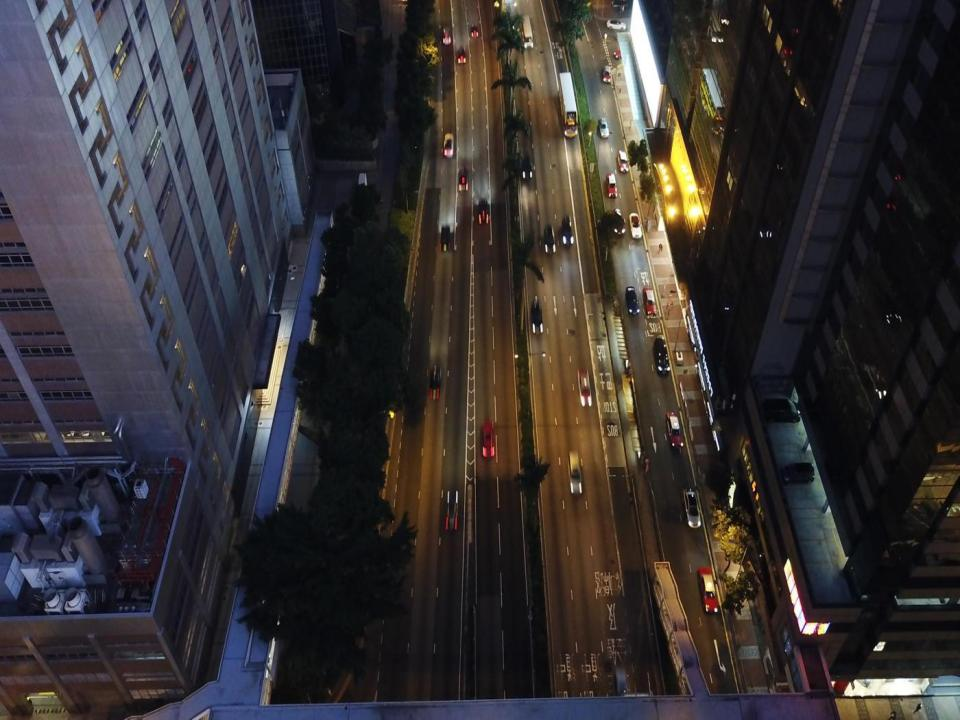bus: (558, 72, 578, 136), (519, 14, 534, 48)
car: (697, 566, 719, 613), (614, 666, 632, 705), (684, 489, 702, 527), (665, 411, 684, 447), (577, 369, 592, 406), (445, 490, 458, 530), (530, 298, 545, 332), (518, 152, 534, 180), (609, 208, 625, 236), (482, 420, 494, 457), (643, 287, 657, 316), (430, 364, 441, 400), (625, 286, 639, 313), (629, 213, 642, 237), (617, 150, 630, 173), (478, 197, 489, 224), (545, 226, 556, 253), (458, 166, 469, 192), (443, 133, 453, 158), (440, 226, 450, 251), (606, 18, 625, 30), (613, 47, 630, 60), (598, 119, 609, 138), (441, 26, 452, 44), (456, 46, 466, 64), (607, 179, 617, 197), (602, 66, 612, 83), (470, 23, 478, 36)
van: (566, 452, 582, 496), (653, 334, 670, 373), (562, 214, 574, 244)
